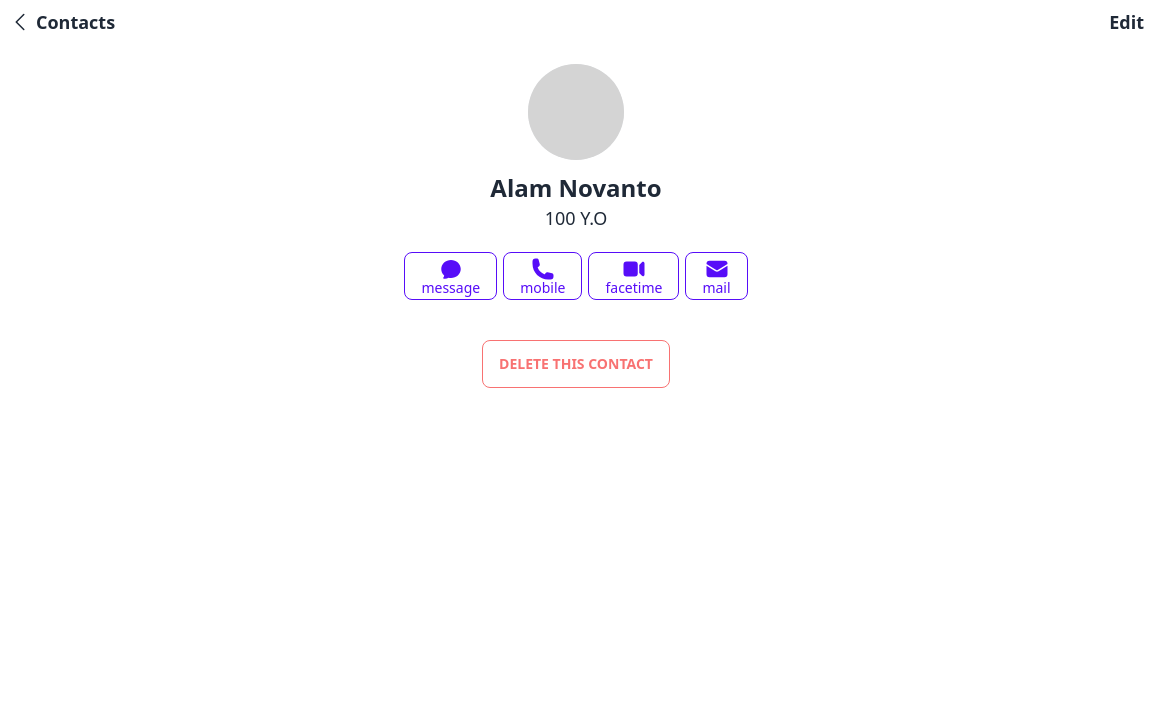
Contact Details page › Should render success message after successfully editing contact
This screenshot has width=1152, height=720.
Click the button "Edit" at (1127, 22), box [1109,8,1144,36]
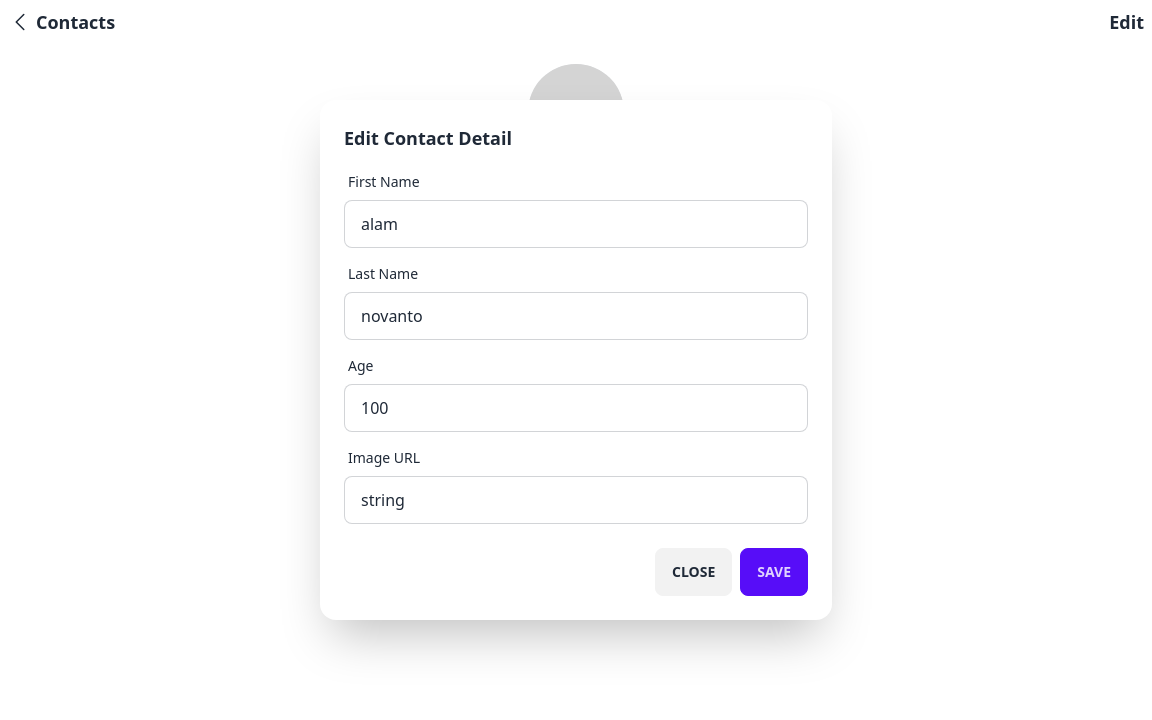
Replace the text in the field labelled "First Name" with "mantap" at (576, 224), box [344,200,808,248]
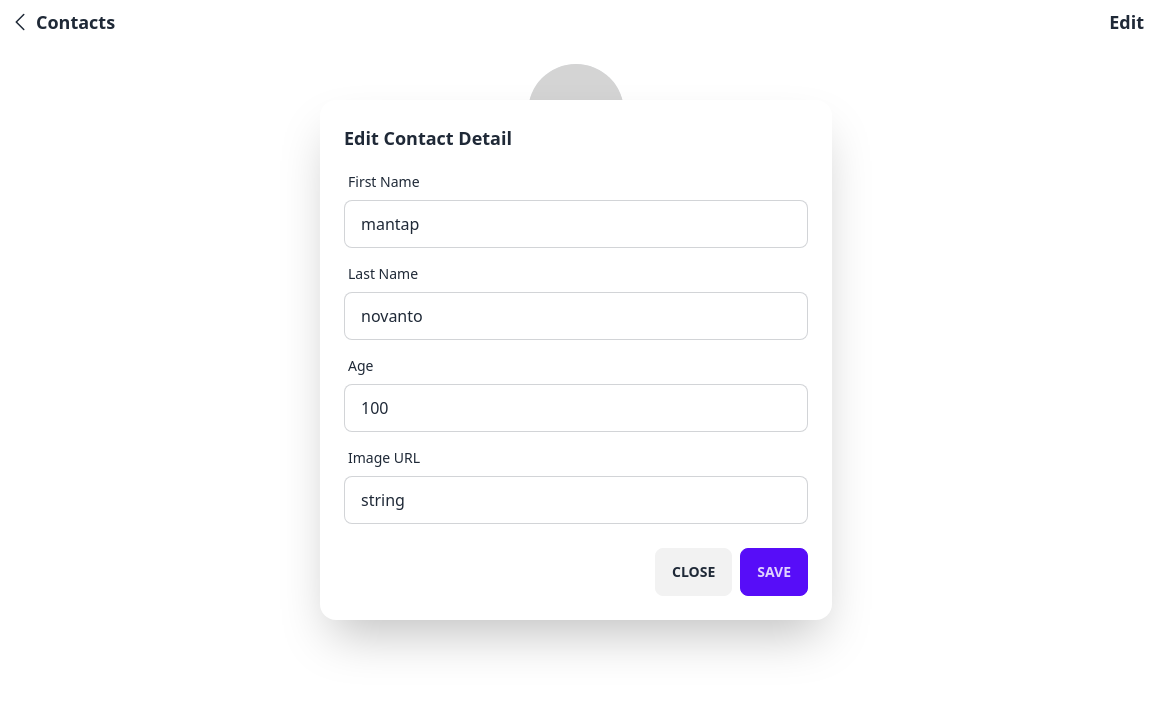
Replace the text in the field labelled "Last Name" with "jiwa" at (576, 316), box [344,292,808,340]
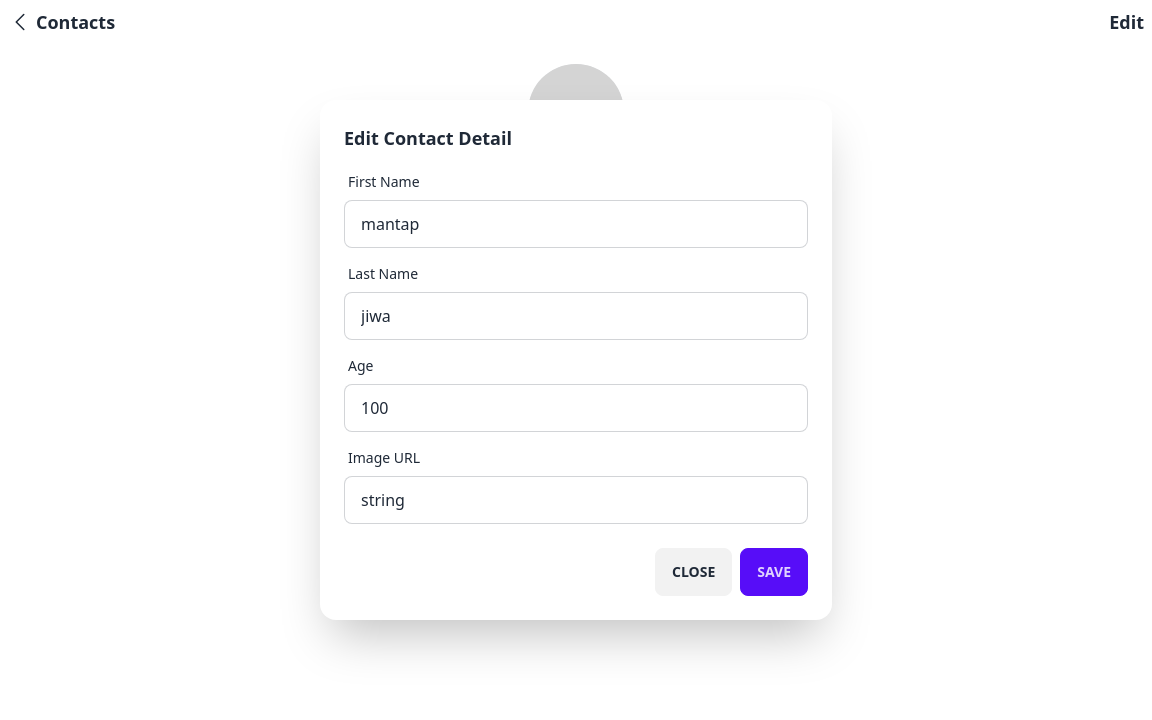
Replace the text in the field labelled "Age" with "18" at (576, 408), box [344,384,808,432]
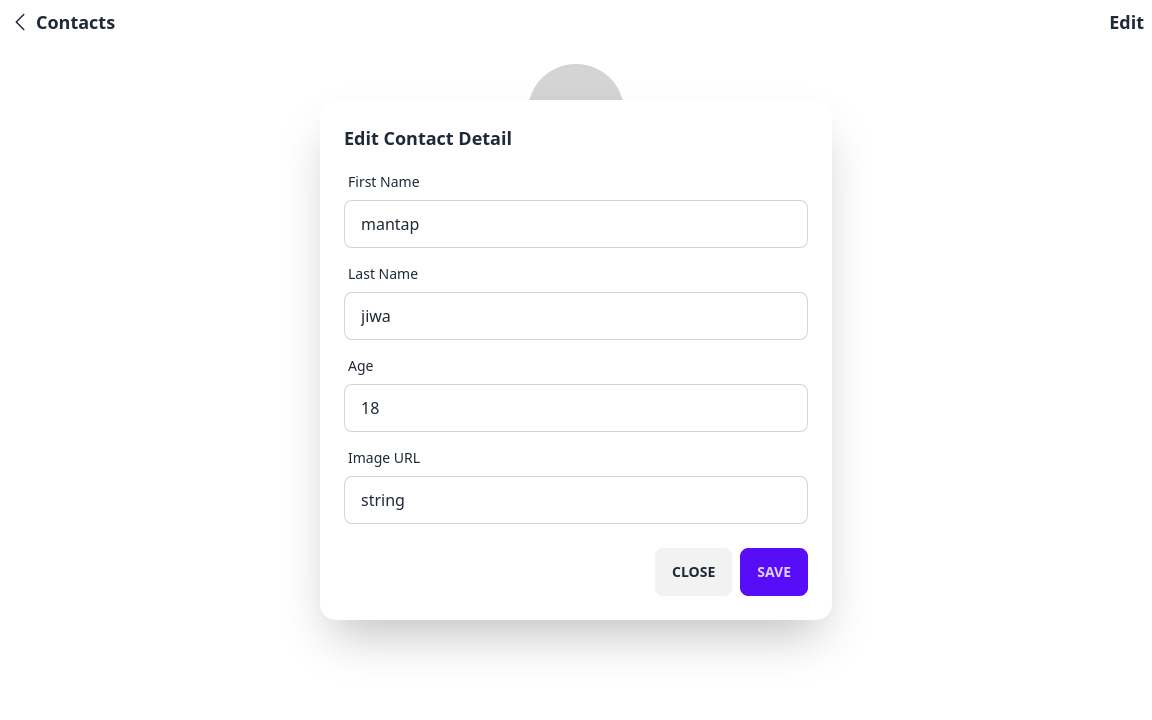
Replace the text in the field labelled "Image URL" with "mantap.png" at (576, 500), box [344,476,808,524]
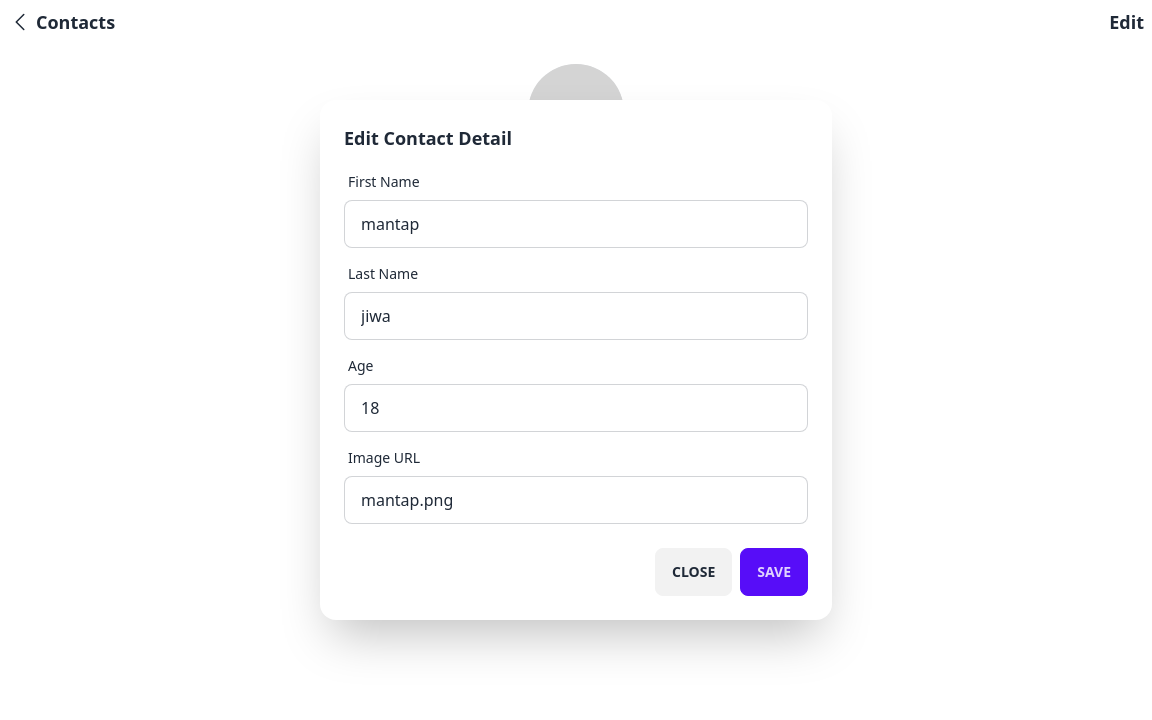
Click the button "Save" at (774, 572), box [740,548,808,596]
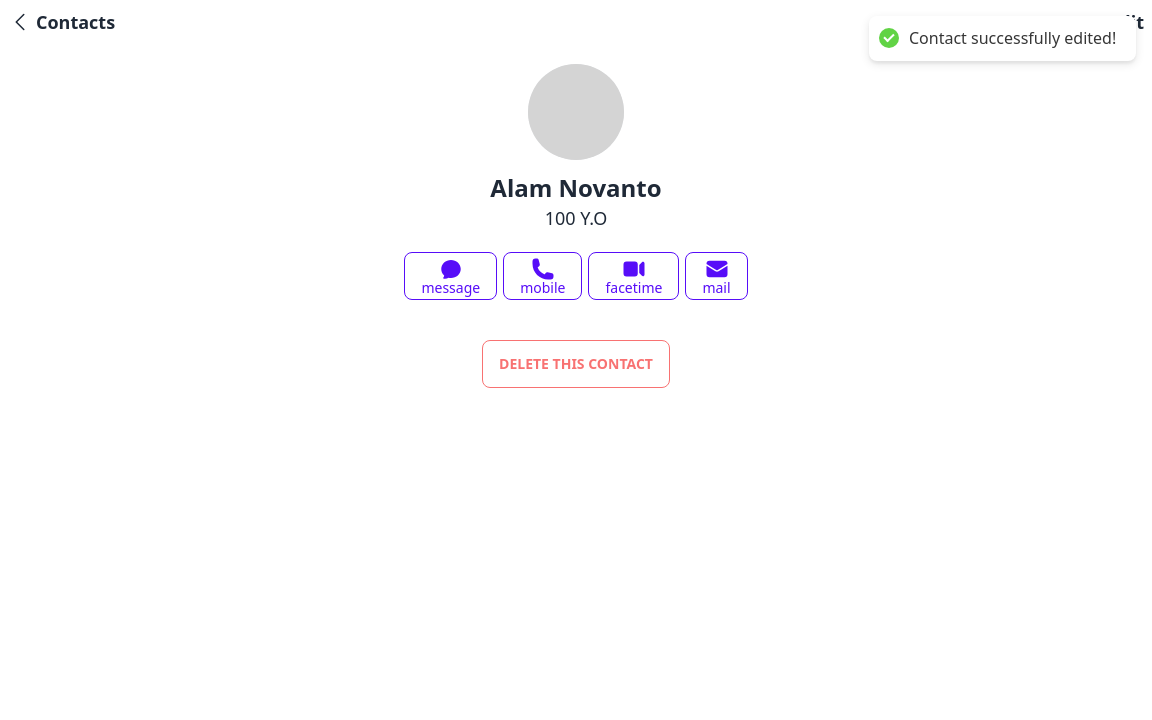
Check: the text "Contact successfully edited!" is shown, box [909,28,1116,49]
